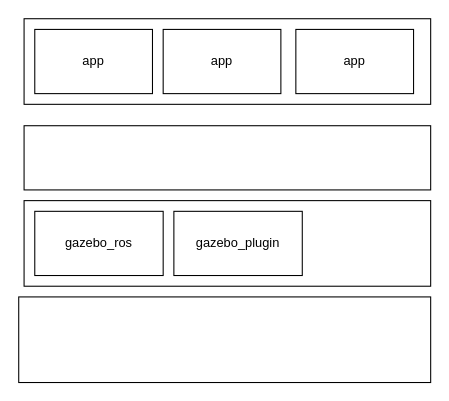
Some shapes in this 449 by 401 pixel diagram are drawn without their labels. The shapes that lost their labels are listed below. From the top down, each one's centre as x and y in pixels, then its label:
(x=227, y=157): interface
(x=224, y=339): gazebo
